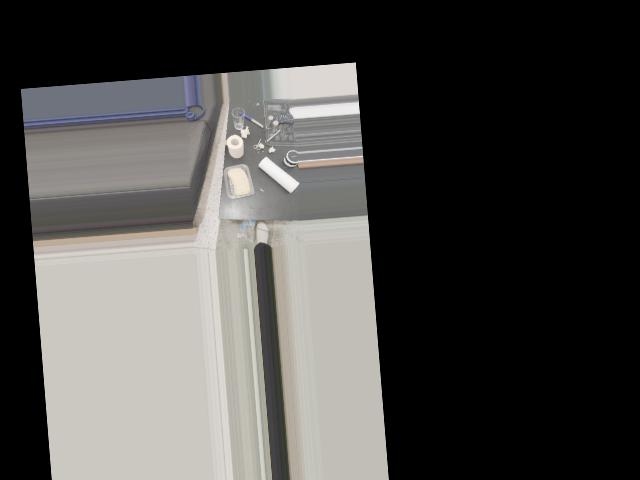cheese: (221, 162, 256, 203)
